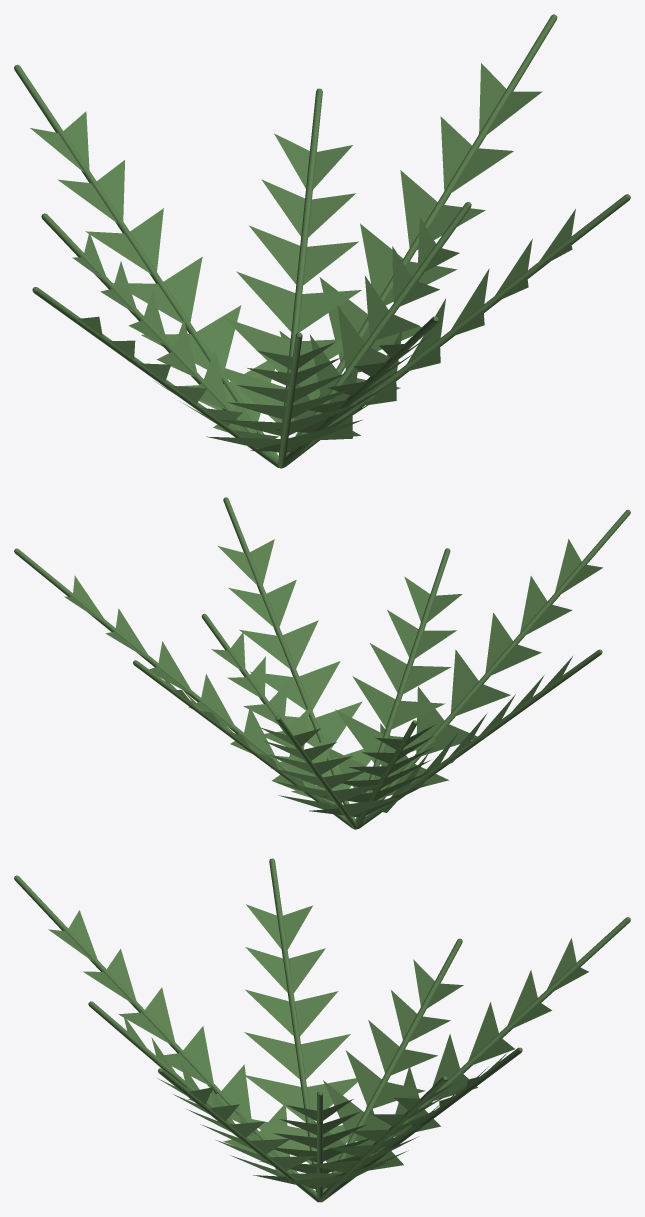
The model's file is fern.glb.
3 views of the same model, one above another, from view 1: azimuth 30°, elevation 25°; view 2: azimuth 150°, elevation 25°; view 3: azimuth 270°, elevation 25° (orthographic). The views are drawn at different scales.
Parts seen in each view (by area): view 1: Forest_fern; view 2: Forest_fern; view 3: Forest_fern.
Boxes of the visible parts, x1,y1,x2,y2 form: Forest_fern: [14, 14, 630, 468]; Forest_fern: [14, 497, 630, 829]; Forest_fern: [14, 858, 630, 1202].
Size of the model in its own units: 1.65 by 0.7959 by 1.65.
